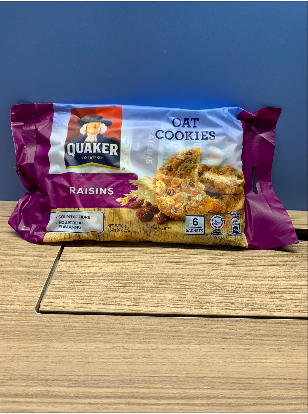Cookies_100-199g: (32, 114, 253, 249)
